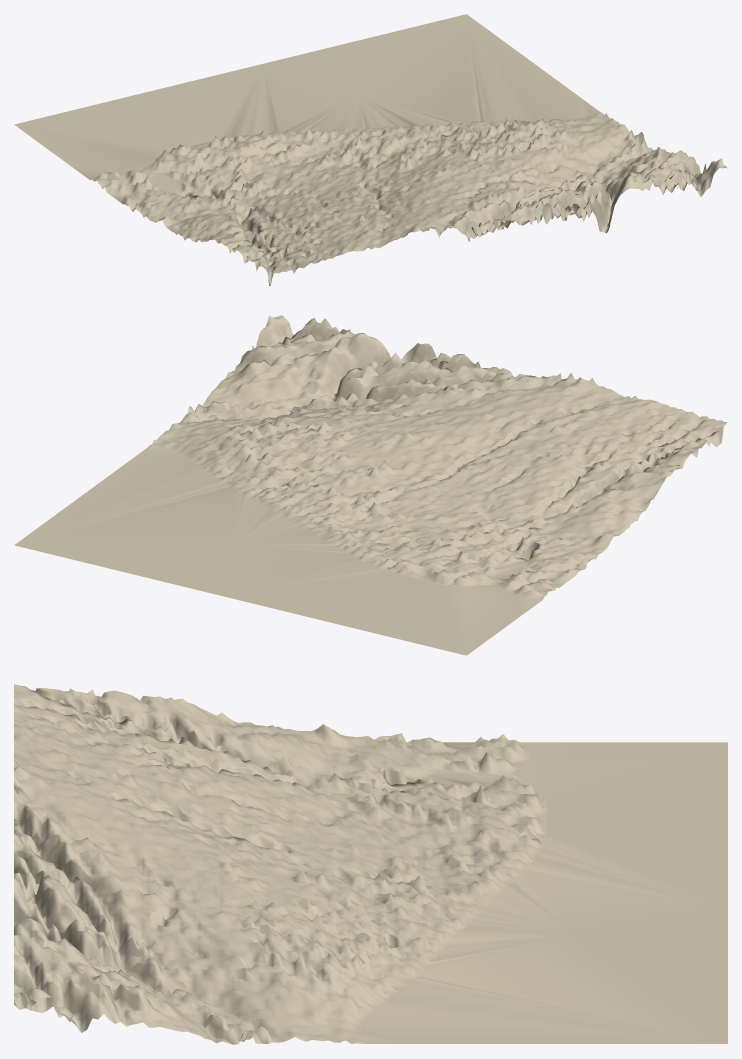
The model's file is lencois-hi.glb.
The picture shows the model from 3 angles, top to bottom: view 1: azimuth 30°, elevation 25°; view 2: azimuth 150°, elevation 25°; view 3: azimuth 270°, elevation 25°; orthographic projection. The views are drawn at different scales.
Size of the model in its own units: 3600 by 616 by 3600.
